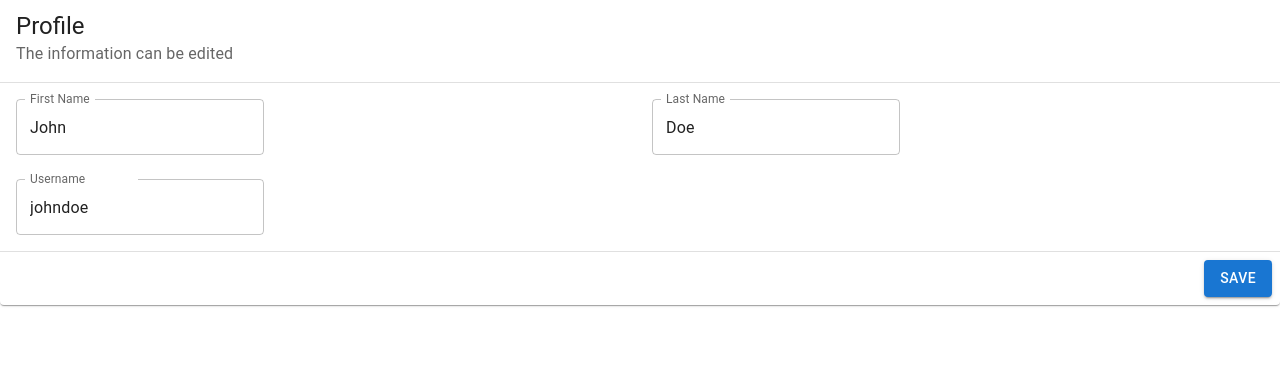
Scenario: AccountDetailsForm › should display validation errors if required fields are missing
# Clear out the required fields
Clear the field labelled "First Name" at (140, 127), box left=16, top=99, right=264, bottom=155
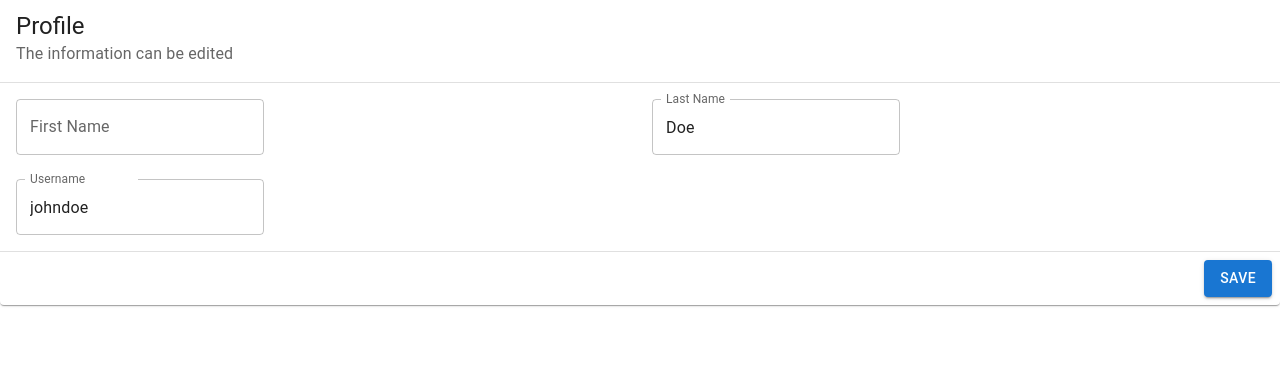
Clear the field labelled "Last Name" at (776, 127), box left=652, top=99, right=900, bottom=155
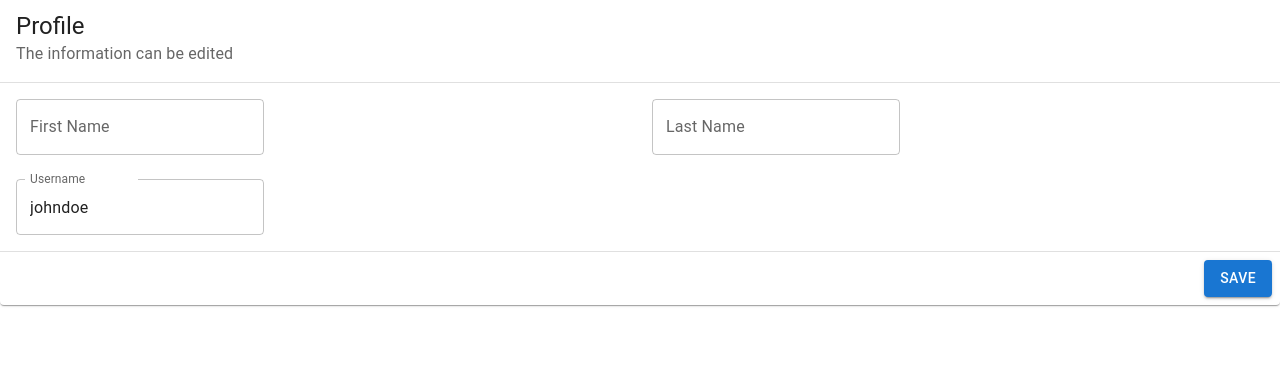
Clear the field labelled "Username" at (140, 207), box left=16, top=179, right=264, bottom=235
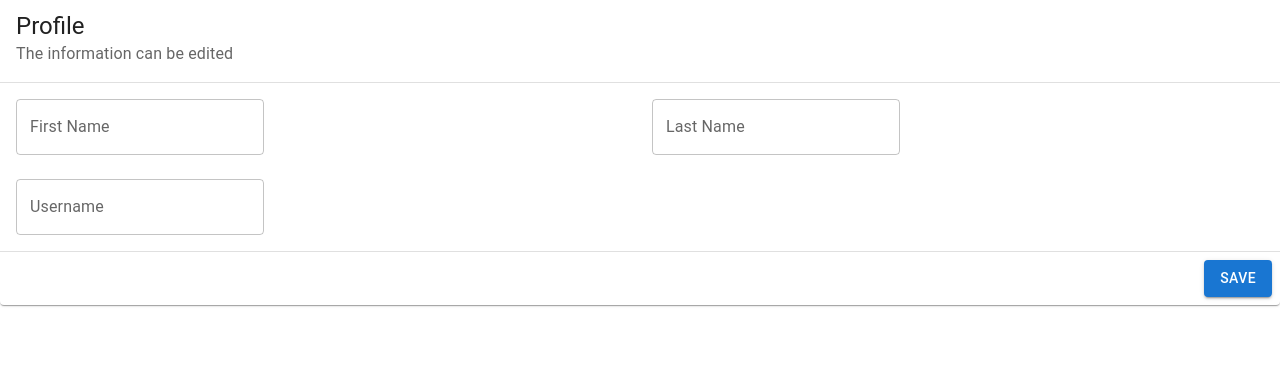
# Submit the form
Click the button "Save" at (1238, 278), box left=1204, top=260, right=1272, bottom=296
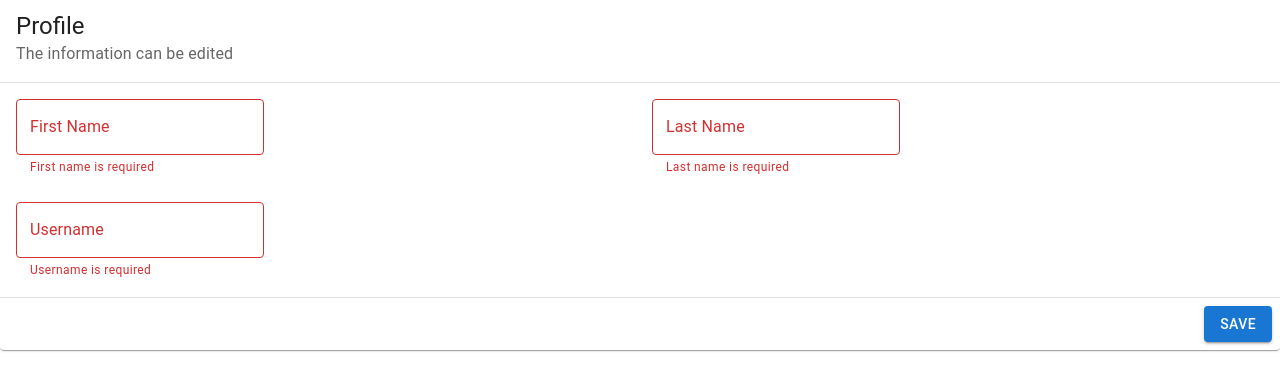
Expected: the text "First name is required" is shown, left=30, top=160, right=154, bottom=174
Expected: the text "Last name is required" is shown, left=666, top=160, right=789, bottom=174
Expected: the text "Username is required" is shown, left=30, top=263, right=151, bottom=277
